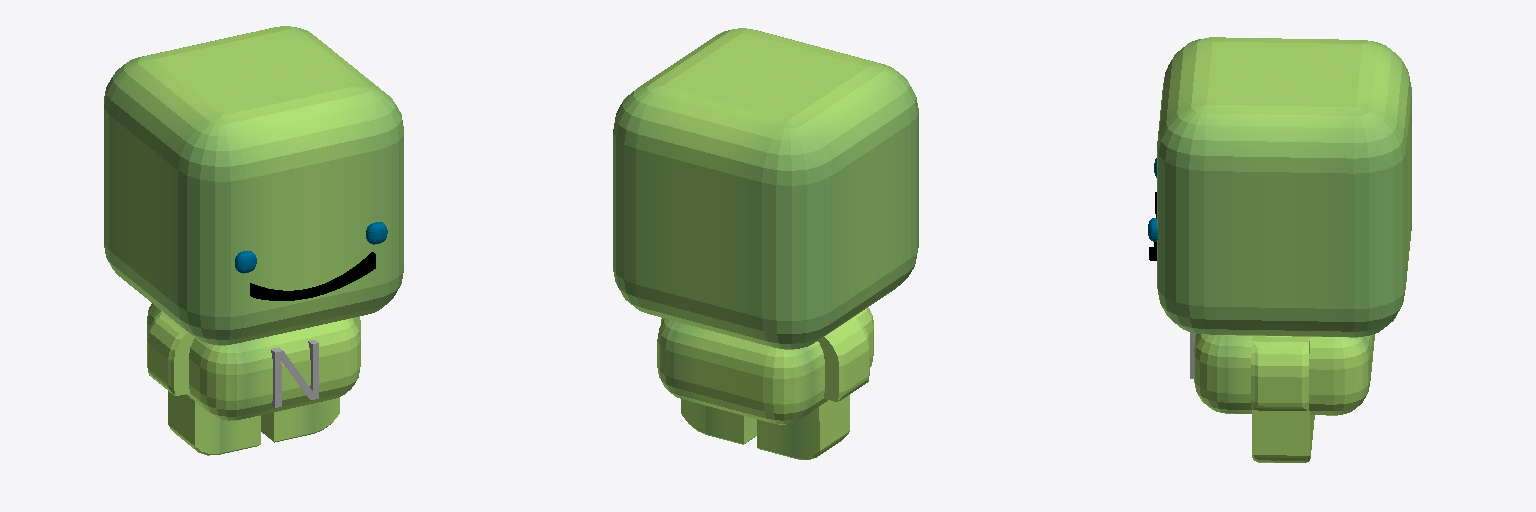
The picture shows the model from 3 angles: view 1: azimuth 30°, elevation 25°; view 2: azimuth 150°, elevation 25°; view 3: azimuth 270°, elevation 25°; orthographic projection.
Visible parts, largest first — view 1: Head_1, Body, mouth, Cap_1; view 2: Head_1, Body; view 3: Head_1, Body.
Part boxes in pixels (bbox=[...]): Head_1: bbox=[104, 26, 403, 345]; Body: bbox=[147, 303, 360, 455]; mouth: bbox=[250, 252, 375, 300]; Cap_1: bbox=[275, 343, 318, 407]; Head_1: bbox=[613, 28, 918, 349]; Body: bbox=[657, 308, 873, 459]; Head_1: bbox=[1157, 37, 1411, 337]; Body: bbox=[1194, 334, 1374, 462].
Size of the model in its own units: 20.48 by 32.14 by 21.18.
4 materials, 1 textured.